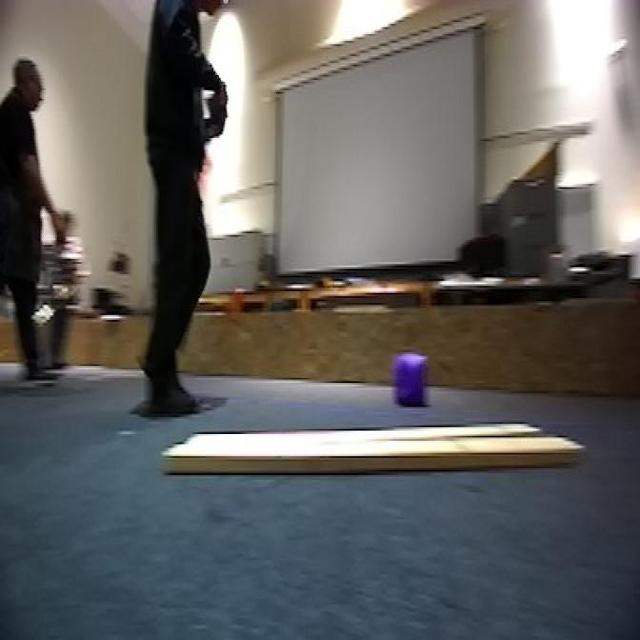frc_cube: (392, 354, 432, 407)
